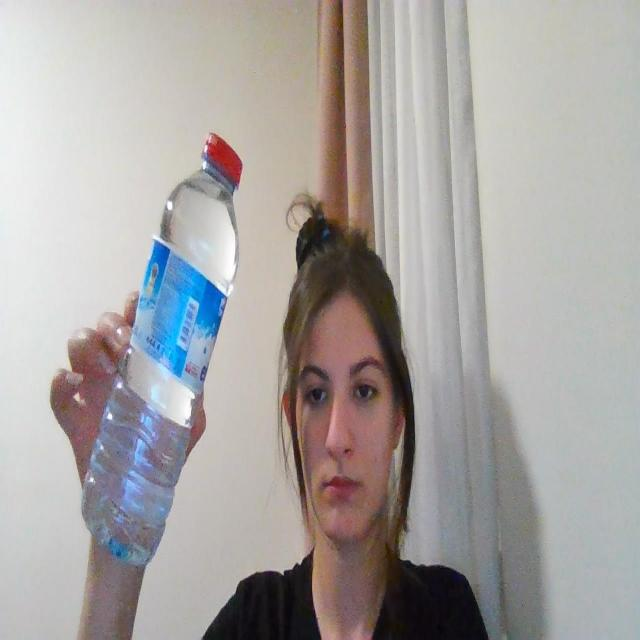bottle: (81, 105, 247, 566)
